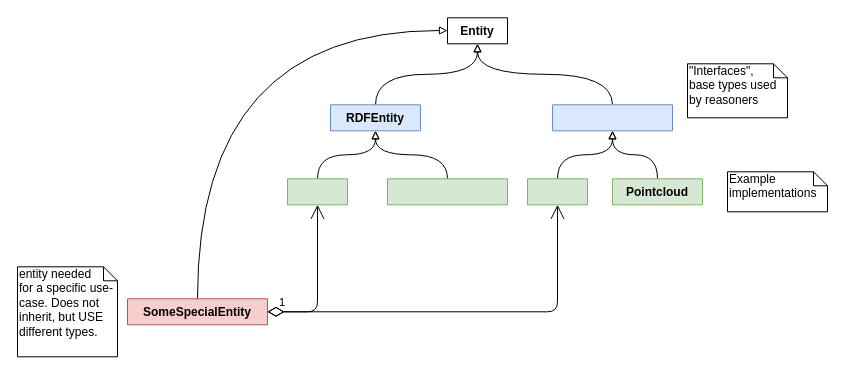
This 845x374 diagram has some shape labels left out. The shapes that lost their labels are listed below. From the top down, each one's box as (x1, y1, x2, y2) in pixels, then its label:
(552, 104, 672, 131): GeometricEntity
(286, 178, 348, 205): Triple
(386, 178, 508, 205): OWLDocument
(526, 178, 588, 205): Mesh
